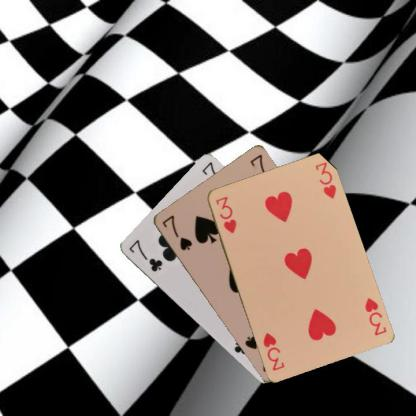3h: (362, 295, 388, 337), (212, 193, 237, 234)
7c: (126, 237, 164, 273)
7s: (159, 212, 193, 252)
